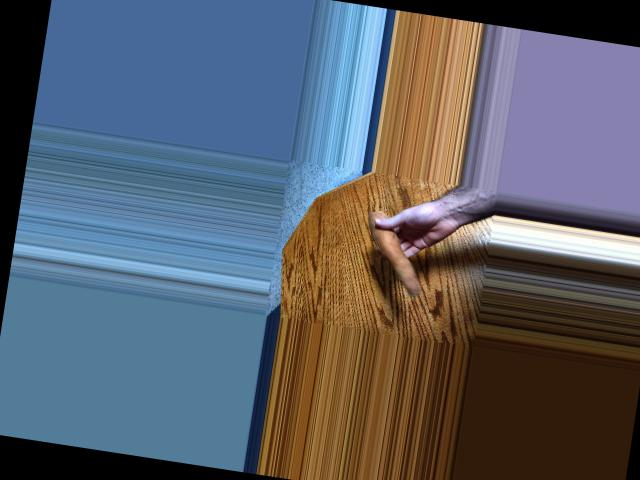sweet_potato: (361, 210, 433, 297)
